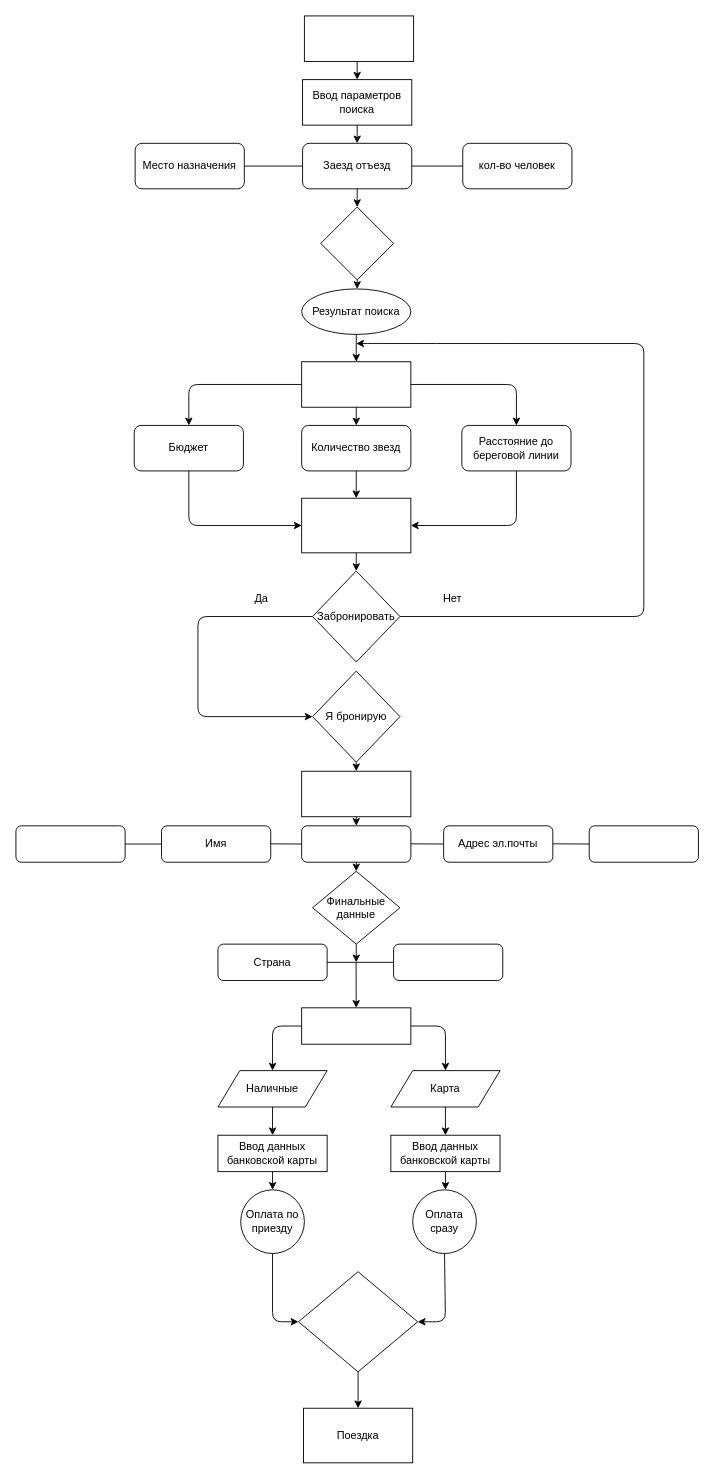
The diagram is 714 pixels wide and 1479 high, and some of its shapes have lost their labels. Here are the shapes that lost their labels. From the top down, the centre of each, then its label:
At (358,38): "Вход в учетную запись".
At (357,243): "Проверить цены".
At (356,384): "Ввод дополнительных критериев".
At (356,525): "Выбор отеля из списка".
At (356,793): "Ввод своих данных (на латинице)".
At (70,843): "Mr / Ms".
At (356,843): "Фамилия".
At (643,843): "Подтверждение эл.почты".
At (448,962): "Номер телефона".
At (356,1025): "Вариант оплаты".
At (358,1321): "Завершить бронирование".
